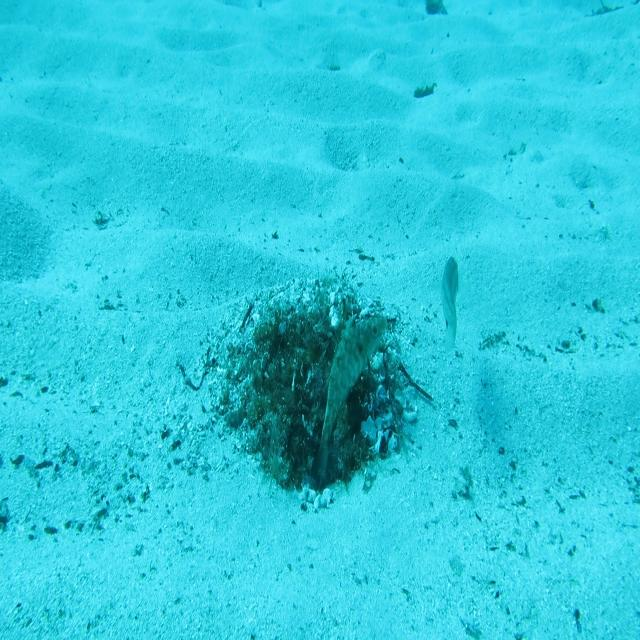MAF: (313, 310, 389, 483)
core_nest: (281, 328, 327, 359)
female: (429, 254, 471, 357)
nest: (204, 263, 424, 521)
vegetation: (413, 80, 438, 103)
